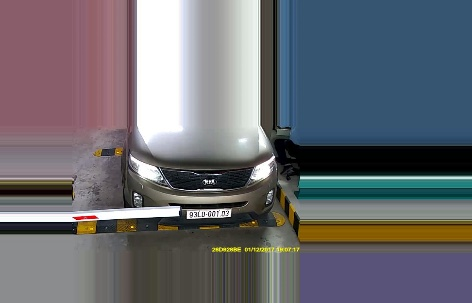plate: (186, 207, 232, 222)
